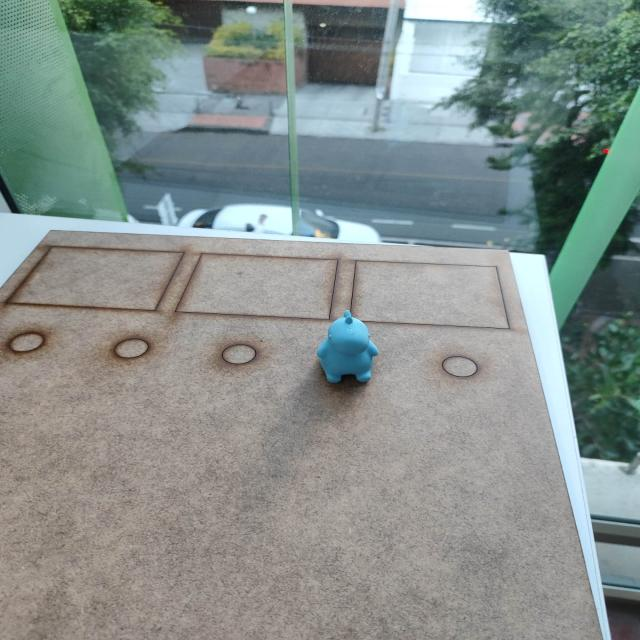DINO: (302, 300, 390, 390)
